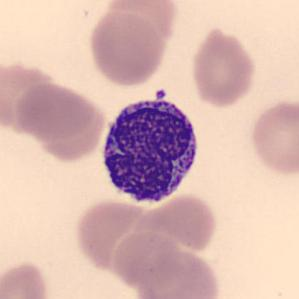Basophil: (96, 90, 204, 212)
RBC: (86, 7, 169, 89), (188, 25, 258, 109), (10, 80, 100, 142), (33, 92, 110, 164), (72, 197, 146, 271), (134, 191, 220, 254), (133, 247, 222, 299), (0, 58, 61, 130), (110, 230, 185, 288), (102, 1, 180, 54), (248, 97, 298, 177), (0, 258, 52, 298)
